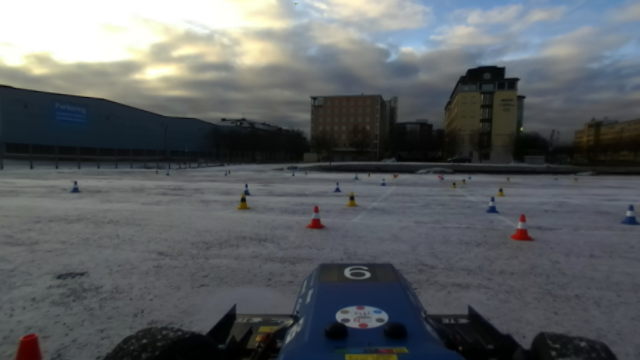blue: (620, 202, 640, 224), (482, 195, 501, 216), (70, 180, 80, 194), (242, 183, 252, 196), (333, 181, 342, 193)
orange: (509, 212, 534, 243), (304, 202, 326, 230)
yellow: (234, 191, 252, 211), (344, 191, 359, 209), (496, 186, 505, 197)
